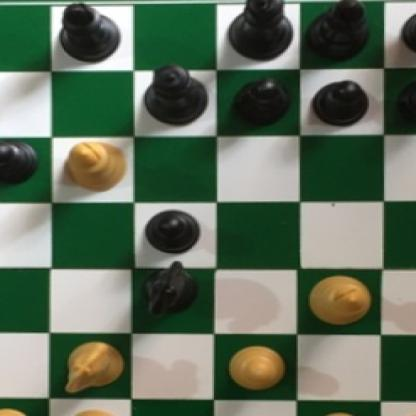black-bishop: (57, 3, 126, 64), (300, 0, 369, 58)
black-king: (224, 0, 293, 61)
black-knight: (136, 261, 202, 317), (401, 0, 416, 58)
black-pawn: (140, 204, 202, 256), (229, 78, 288, 130), (305, 79, 364, 127), (0, 132, 35, 179), (392, 77, 416, 129)
black-queen: (136, 61, 205, 126)
white-bishop: (300, 270, 372, 326), (59, 138, 128, 191)
white-knight: (61, 334, 126, 391)
white-pawn: (226, 344, 288, 395), (59, 407, 123, 416), (0, 404, 39, 416), (310, 409, 374, 416), (392, 412, 416, 416)
